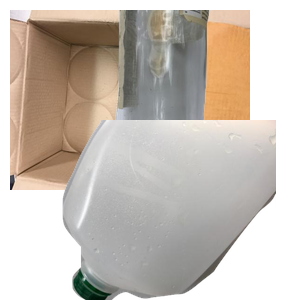cardboard: (10, 10, 250, 190)
glass: (113, 10, 300, 190)
plastic: (60, 120, 300, 300)
trash: (83, 163, 276, 300)
